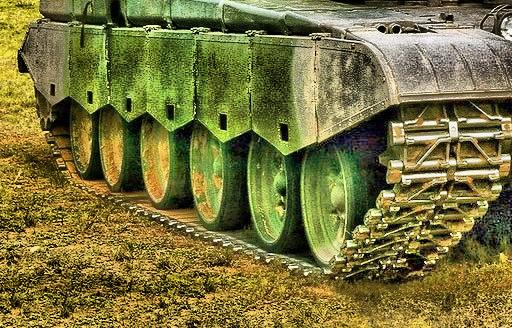tanks: (19, 1, 512, 279)
